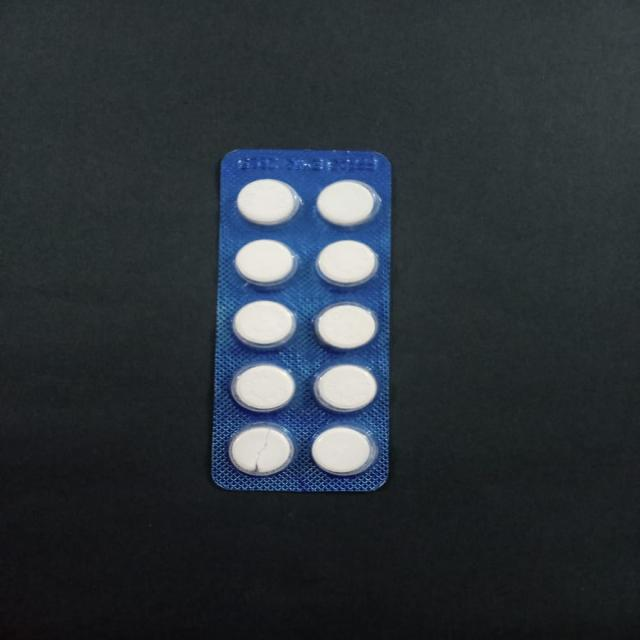defect: (224, 423, 301, 478)
